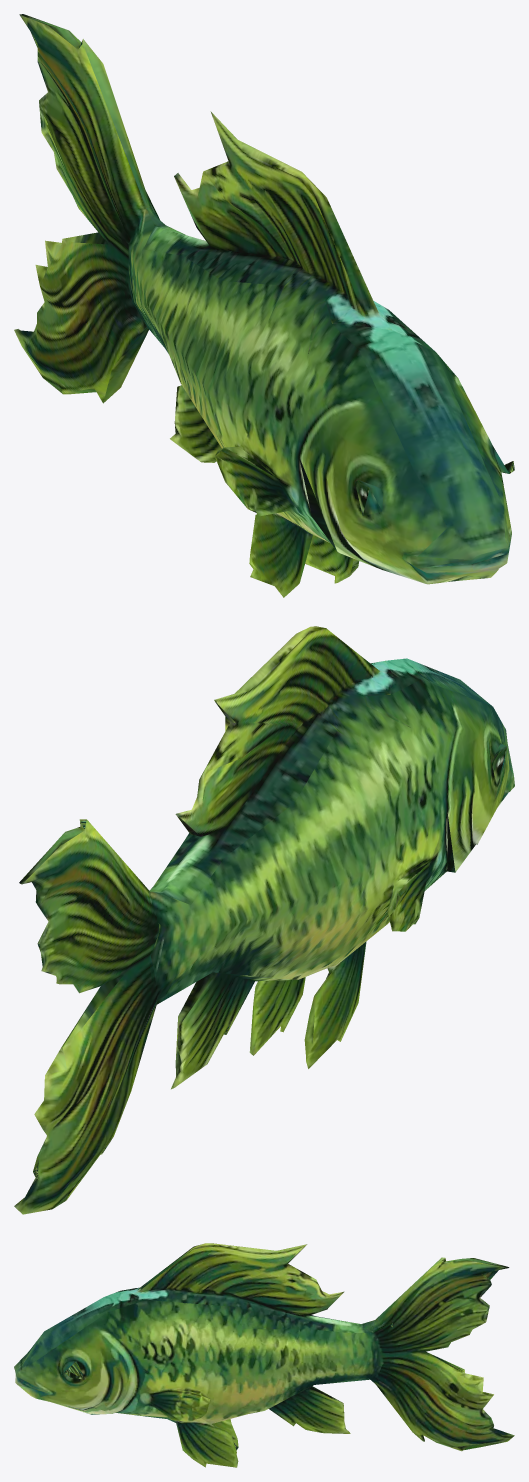
The model's file is mossy-carp.glb.
3 renders of one model, top to bottom at view 1: azimuth 30°, elevation 25°; view 2: azimuth 150°, elevation 25°; view 3: azimuth 270°, elevation 25°, orthographic. The views are drawn at different scales.
Visible parts, largest first — view 1: mossy-carp; view 2: mossy-carp; view 3: mossy-carp.
Boxes of the visible parts, left/top/right/bottom form: mossy-carp: left=14, top=14, right=514, bottom=597; mossy-carp: left=14, top=626, right=514, bottom=1214; mossy-carp: left=14, top=1243, right=514, bottom=1467.
Bounding box in the file's own units: 0.2149 × 0.479 × 1.
1 material, 1 textured.
